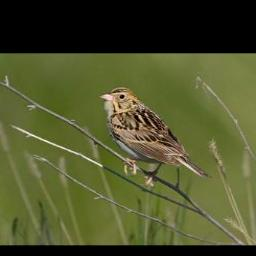Sparrow: (98, 86, 212, 188)
